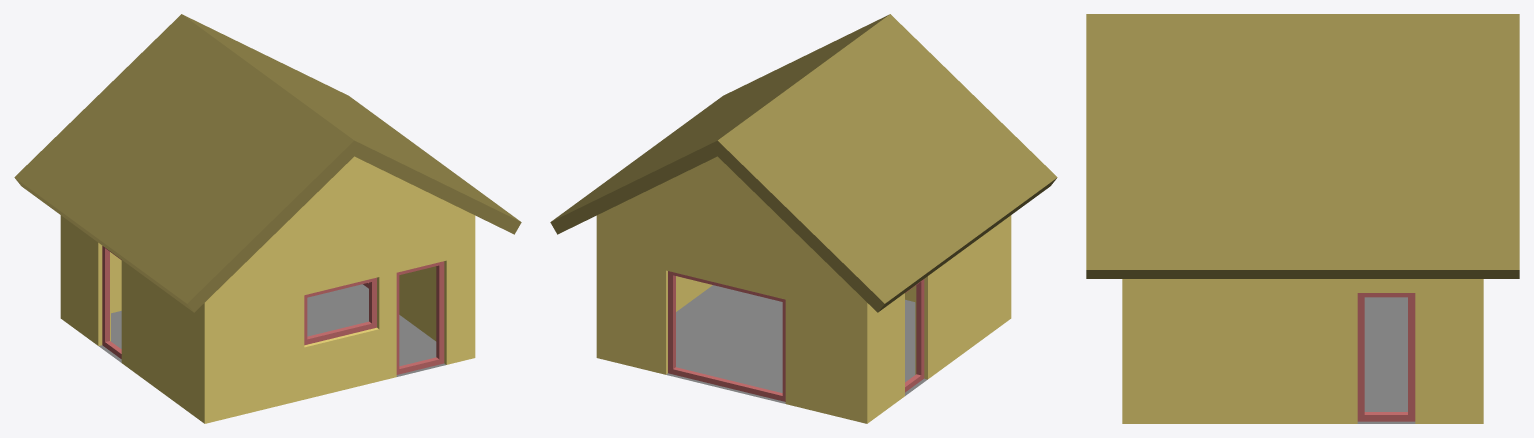
Rendered from result.glb.
The picture shows the model from 3 angles, left to right: view 1: azimuth 30°, elevation 25°; view 2: azimuth 150°, elevation 25°; view 3: azimuth 270°, elevation 25°; orthographic projection. The views are drawn at different scales.
Visible parts, largest first — view 1: 163c9ad6-a3db-4bb1-abed-6cf78378ed4c__undefined (×2), 0a6126ea-9031-4fe0-93af-cffb91312ba6__undefined, 9876e1db-8b5f-4205-9526-f52f26fb9c94__Plane_6, 575a1742-476b-46f8-9f05-7e3761ef48bb__Box, 21792512-bf52-40fb-ace3-973cfc5f4350__Box_3, 27d79e34-f6ae-42f4-9f7c-cbb09c5e48a3__Box_12; view 2: 163c9ad6-a3db-4bb1-abed-6cf78378ed4c__undefined (×2), 0a6126ea-9031-4fe0-93af-cffb91312ba6__undefined, 9876e1db-8b5f-4205-9526-f52f26fb9c94__Plane_6, bb8b3757-71c3-4d63-9ea6-908e04612fe4__Box_9, 27d79e34-f6ae-42f4-9f7c-cbb09c5e48a3__Box_12; view 3: 163c9ad6-a3db-4bb1-abed-6cf78378ed4c__undefined, 0a6126ea-9031-4fe0-93af-cffb91312ba6__undefined, 9876e1db-8b5f-4205-9526-f52f26fb9c94__Plane_6, 82c108f1-9e04-4fed-8839-0737612d879f__Box_15.
Boxes of the visible parts, <box> form: 163c9ad6-a3db-4bb1-abed-6cf78378ed4c__undefined (×2): <box>14,14,521,312</box>; 0a6126ea-9031-4fe0-93af-cffb91312ba6__undefined: <box>60,156,475,423</box>; 9876e1db-8b5f-4205-9526-f52f26fb9c94__Plane_6: <box>99,284,445,376</box>; 575a1742-476b-46f8-9f05-7e3761ef48bb__Box: <box>396,261,444,374</box>; 21792512-bf52-40fb-ace3-973cfc5f4350__Box_3: <box>304,277,376,345</box>; 27d79e34-f6ae-42f4-9f7c-cbb09c5e48a3__Box_12: <box>102,246,121,358</box>; 163c9ad6-a3db-4bb1-abed-6cf78378ed4c__undefined (×2): <box>550,14,1057,312</box>; 0a6126ea-9031-4fe0-93af-cffb91312ba6__undefined: <box>596,156,1011,423</box>; 9876e1db-8b5f-4205-9526-f52f26fb9c94__Plane_6: <box>666,285,927,403</box>; bb8b3757-71c3-4d63-9ea6-908e04612fe4__Box_9: <box>668,271,785,401</box>; 27d79e34-f6ae-42f4-9f7c-cbb09c5e48a3__Box_12: <box>905,279,924,392</box>; 163c9ad6-a3db-4bb1-abed-6cf78378ed4c__undefined: <box>1086,14,1519,278</box>; 0a6126ea-9031-4fe0-93af-cffb91312ba6__undefined: <box>1122,279,1483,423</box>; 9876e1db-8b5f-4205-9526-f52f26fb9c94__Plane_6: <box>1357,297,1415,423</box>; 82c108f1-9e04-4fed-8839-0737612d879f__Box_15: <box>1357,293,1415,421</box>.
Size of the model in its own units: 671 by 500 by 600.
